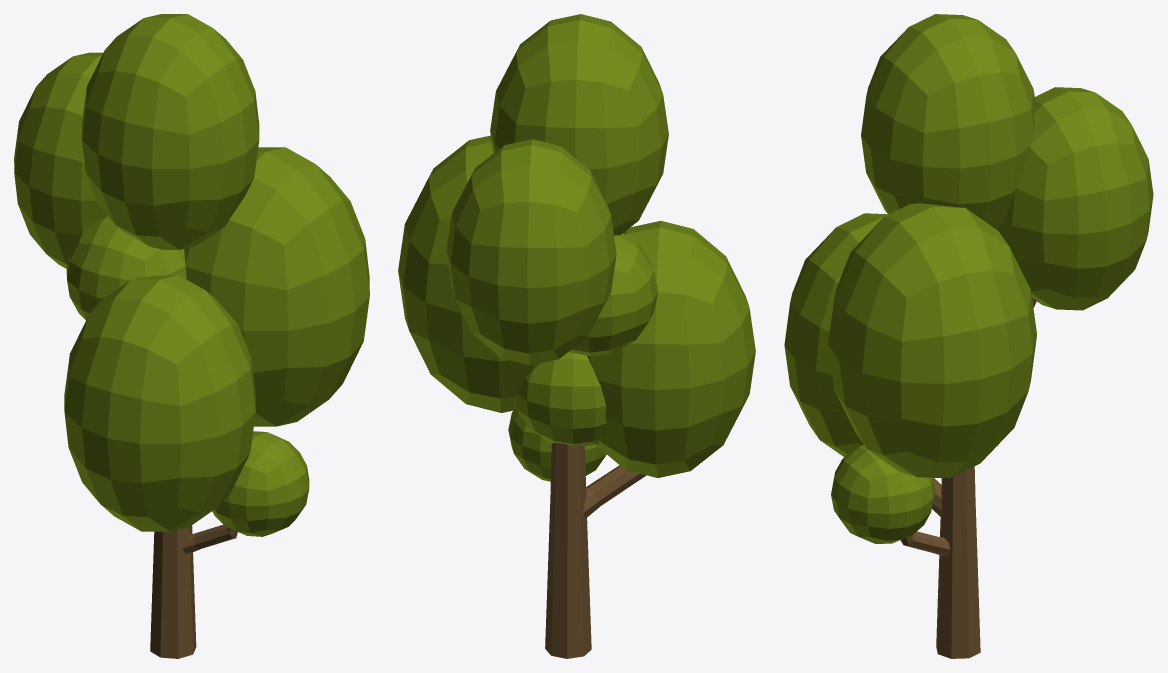
Rendered from tree2.fbx.
3 renders of one model, left to right at view 1: azimuth 30°, elevation 25°; view 2: azimuth 150°, elevation 25°; view 3: azimuth 270°, elevation 25°, orthographic.
Parts seen in each view (by area): view 1: Tree_01.001; view 2: Tree_01.001; view 3: Tree_01.001.
Part boxes in pixels (<box>): Tree_01.001: <box>14,14,369,658</box>; Tree_01.001: <box>398,14,755,658</box>; Tree_01.001: <box>784,14,1153,658</box>.
Size of the model in its own units: 411 by 812 by 433.
